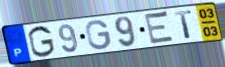9: (115, 15, 139, 49), (57, 23, 79, 54)
E: (143, 10, 177, 46)
G: (26, 25, 56, 59), (84, 19, 112, 51)
T: (172, 9, 194, 39)
